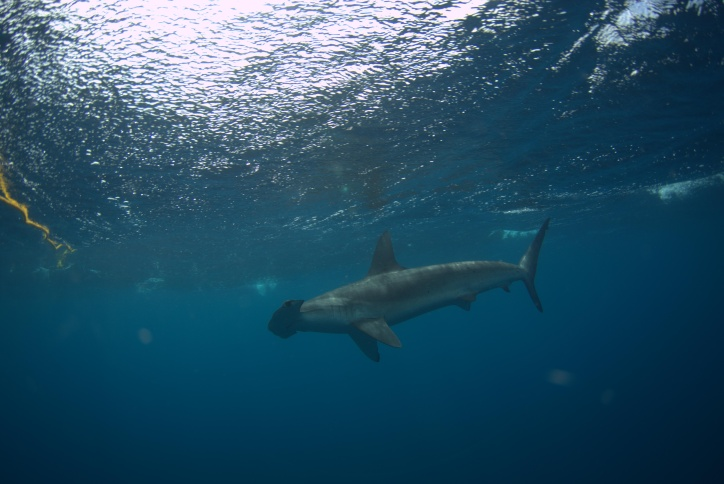Hammer: (201, 177, 571, 381)
